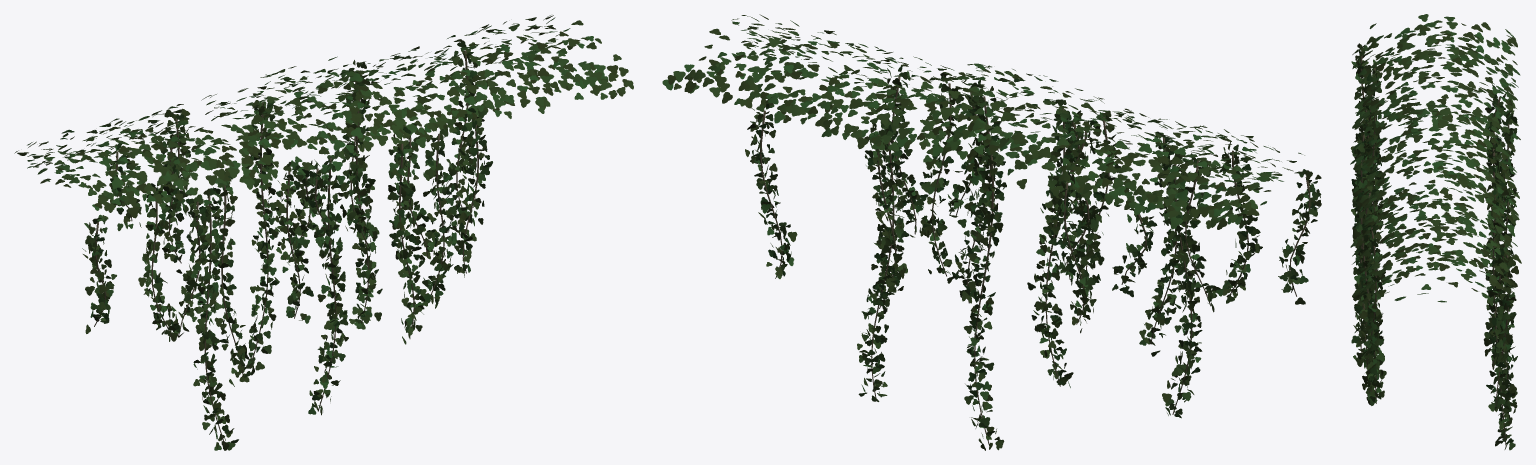
File: ER_Lierre_Crete_Mur_4m.gltf
3 renders of one model, left to right at view 1: azimuth 30°, elevation 25°; view 2: azimuth 150°, elevation 25°; view 3: azimuth 270°, elevation 25°, orthographic. The views are drawn at different scales.
Visible parts, largest first — view 1: ER_Lierre_Crete_Mur_4m_FEU.001, ER_Lierre_Crete_Mur_4m_TIG.001; view 2: ER_Lierre_Crete_Mur_4m_FEU.001, ER_Lierre_Crete_Mur_4m_TIG.001; view 3: ER_Lierre_Crete_Mur_4m_FEU.001, ER_Lierre_Crete_Mur_4m_TIG.001.
Part boxes in pixels (left/top/right/bottom): ER_Lierre_Crete_Mur_4m_FEU.001: left=14, top=15, right=633, bottom=450; ER_Lierre_Crete_Mur_4m_TIG.001: left=94, top=50, right=478, bottom=445; ER_Lierre_Crete_Mur_4m_FEU.001: left=662, top=14, right=1321, bottom=450; ER_Lierre_Crete_Mur_4m_TIG.001: left=760, top=76, right=1310, bottom=445; ER_Lierre_Crete_Mur_4m_FEU.001: left=1350, top=14, right=1521, bottom=450; ER_Lierre_Crete_Mur_4m_TIG.001: left=1360, top=51, right=1509, bottom=446.
Bounding box in the file's own units: 4.12 × 2.27 × 1.14.
